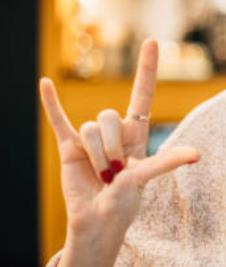back: (29, 38, 204, 218)
